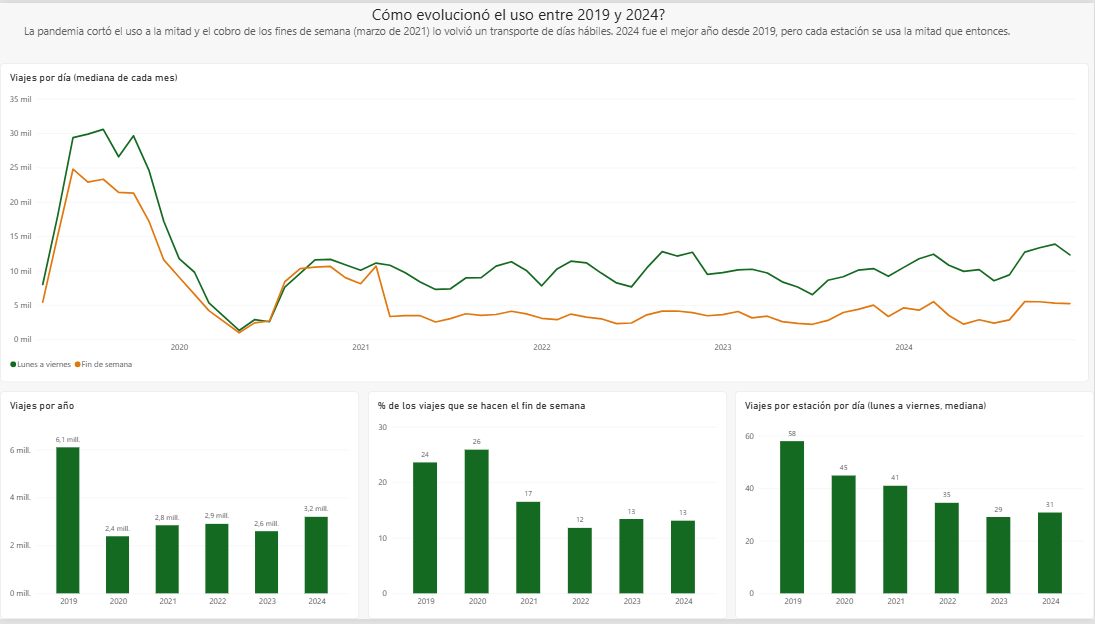

Layout of this report page (visuals, bound fields, positions):
{"tool":"powerbi","page":{"name":"Evolución 2019-2024","canvas":[1920,1080],"ordinal":3},"visuals":[{"type":"lineChart","title":"Viajes por día (mediana de cada mes)","fields":{"Category":["evolucion_mensual.mes"],"Y":["Sum(evolucion_mensual.mediana_viajes_lunes_a_viernes)","Sum(evolucion_mensual.mediana_viajes_fin_de_semana)"]},"box":[0,105,1910,560],"z":0},{"type":"clusteredColumnChart","title":"Viajes por año","fields":{"Category":["evolucion_anual.anio"],"Y":["Sum(evolucion_anual.viajes)"]},"box":[0,680,630,400],"z":1},{"type":"clusteredColumnChart","title":"% de los viajes que se hacen el fin de semana","fields":{"Category":["evolucion_anual.anio"],"Y":["Sum(evolucion_anual.pct_viajes_fin_de_semana)"]},"box":[645,680,630,400],"z":2},{"type":"clusteredColumnChart","title":"Viajes por estación por día (lunes a viernes, mediana)","fields":{"Category":["evolucion_anual.anio"],"Y":["Sum(evolucion_anual.viajes_por_estacion_lunes_a_viernes)"]},"box":[1290,680,630,400],"z":3},{"type":"textbox","box":[0,0,1820,100],"z":4}]}

Visuals, with their boxes in screenshot pixels (x1, y1, x2, y2), scaled from the page's 1920x1080 canvas onto the 1095x624 screenshot:
"Viajes por día (mediana de cada mes)" lineChart: (left=0, top=61, right=1089, bottom=384)
"Viajes por año" clusteredColumnChart: (left=0, top=393, right=359, bottom=623)
"% de los viajes que se hacen el fin de semana" clusteredColumnChart: (left=368, top=393, right=727, bottom=623)
"Viajes por estación por día (lunes a viernes, mediana)" clusteredColumnChart: (left=736, top=393, right=1094, bottom=623)
textbox: (left=0, top=0, right=1038, bottom=58)
